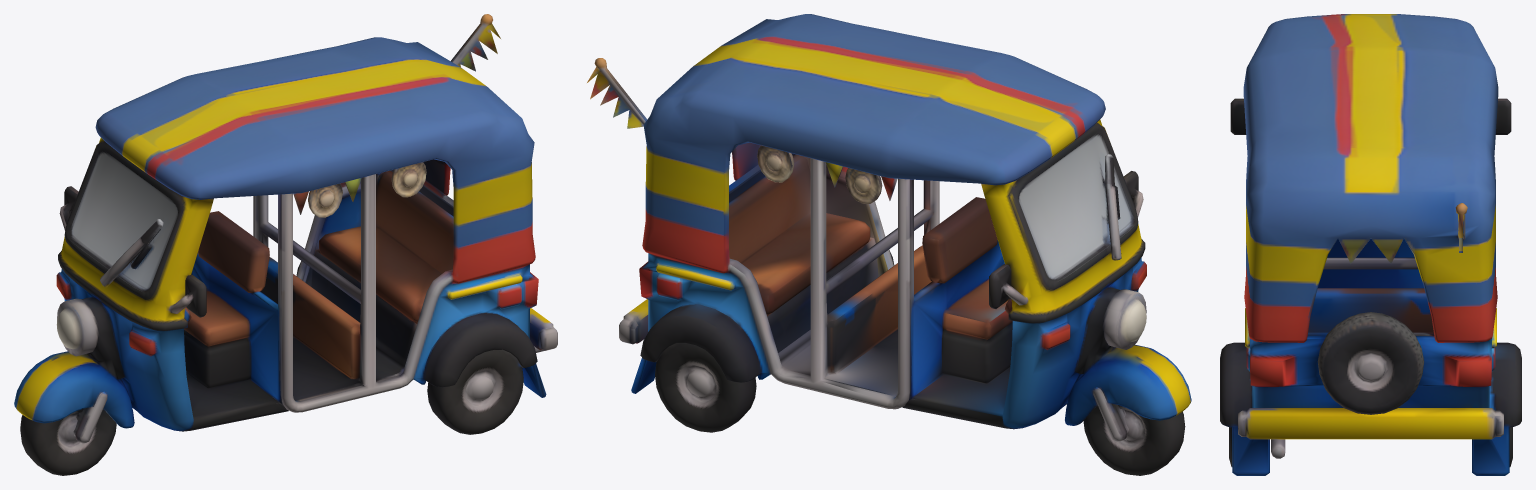
Rendered from Mototaxi.fbx.
3 renders of one model, left to right at view 1: azimuth 30°, elevation 25°; view 2: azimuth 150°, elevation 25°; view 3: azimuth 270°, elevation 25°, orthographic. The views are drawn at different scales.
Visible parts, largest first — view 1: mesh_rep_0_ori_repair_quad; view 2: mesh_rep_0_ori_repair_quad; view 3: mesh_rep_0_ori_repair_quad.
Part boxes in pixels (x1=…): mesh_rep_0_ori_repair_quad: x1=14, y1=14, x2=557, y2=475; mesh_rep_0_ori_repair_quad: x1=587, y1=14, x2=1191, y2=475; mesh_rep_0_ori_repair_quad: x1=1220, y1=14, x2=1521, y2=475.
Bounding box in the file's own units: 105 × 61.93 × 51.02.
Materials: 1 (1 with a texture image).
